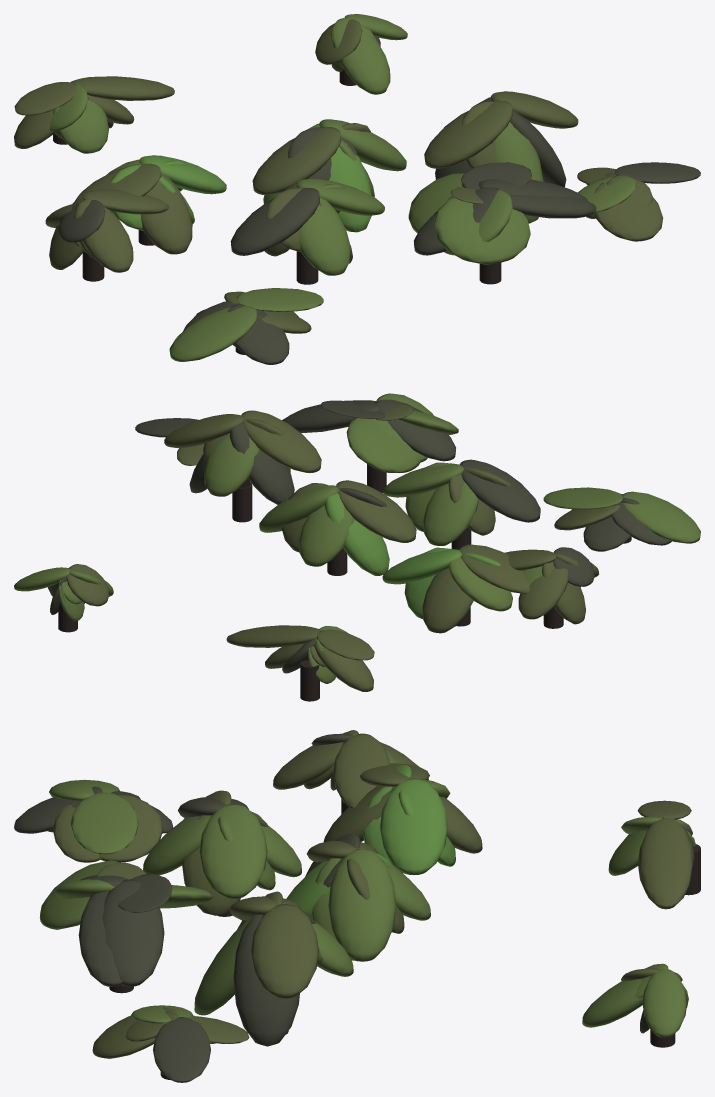
The model's file is CMU3DRMCBushc2.glb.
The picture shows the model from 3 angles, top to bottom: view 1: azimuth 30°, elevation 25°; view 2: azimuth 150°, elevation 25°; view 3: azimuth 270°, elevation 25°; orthographic projection. The views are drawn at different scales.
Parts seen in each view (by area): view 1: tuft 7 source leaf 4, tuft 5 source leaf 0, tuft 6 source leaf 0, tuft 4 source leaf 0, tuft 9 source leaf 0, tuft 6 source leaf 4, tuft 3 source leaf 4, tuft 8 source leaf 4, tuft 1 source leaf 4, tuft 2 source leaf 4, tuft 0 source leaf 3, tuft 4 source leaf 3 (+34 smaller); view 2: tuft 5 source leaf 0, tuft 6 source leaf 0, tuft 4 source leaf 0, tuft 7 source leaf 5, tuft 6 source leaf 5, tuft 9 source leaf 0, tuft 4 source leaf 5, tuft 5 source leaf 5, tuft 3 source leaf 5, tuft 4 source leaf 1, tuft 5 source leaf 1, tuft 7 source leaf 0 (+30 smaller); view 3: tuft 4 source leaf 3, tuft 5 source leaf 3, tuft 3 source leaf 3, tuft 6 source leaf 3, tuft 7 source leaf 3, tuft 5 source leaf 2, tuft 0 source leaf 3, tuft 9 source leaf 3, tuft 8 source leaf 3, tuft 2 source leaf 3, tuft 1 source leaf 3, tuft 7 source leaf 2 (+35 smaller).
Part boxes in pixels (x1,y1,x2,y2): tuft 7 source leaf 4: [434, 197, 530, 264]; tuft 5 source leaf 0: [424, 100, 512, 168]; tuft 6 source leaf 0: [230, 187, 319, 255]; tuft 4 source leaf 0: [252, 126, 341, 194]; tuft 9 source leaf 0: [169, 306, 257, 361]; tuft 6 source leaf 4: [299, 197, 350, 275]; tuft 3 source leaf 4: [140, 173, 192, 254]; tuft 8 source leaf 4: [594, 183, 663, 241]; tuft 1 source leaf 4: [340, 32, 390, 94]; tuft 2 source leaf 4: [79, 207, 133, 272]; tuft 0 source leaf 3: [70, 76, 174, 100]; tuft 4 source leaf 3: [319, 119, 406, 171]; tuft 5 source leaf 0: [241, 410, 321, 473]; tuft 6 source leaf 0: [459, 459, 540, 522]; tuft 4 source leaf 0: [336, 480, 416, 542]; tuft 7 source leaf 5: [346, 417, 420, 472]; tuft 6 source leaf 5: [423, 481, 478, 545]; tuft 9 source leaf 0: [622, 491, 700, 543]; tuft 4 source leaf 5: [299, 505, 354, 566]; tuft 5 source leaf 5: [204, 434, 259, 496]; tuft 3 source leaf 5: [422, 568, 473, 633]; tuft 4 source leaf 1: [324, 493, 389, 575]; tuft 5 source leaf 1: [229, 423, 294, 504]; tuft 7 source leaf 0: [375, 399, 455, 461]; tuft 4 source leaf 3: [328, 849, 396, 961]; tuft 5 source leaf 3: [251, 904, 318, 998]; tuft 3 source leaf 3: [380, 778, 447, 874]; tuft 6 source leaf 3: [199, 804, 267, 898]; tuft 7 source leaf 3: [102, 879, 164, 986]; tuft 5 source leaf 2: [233, 914, 299, 1046]; tuft 0 source leaf 3: [639, 818, 692, 909]; tuft 9 source leaf 3: [70, 792, 138, 854]; tuft 8 source leaf 3: [153, 1017, 210, 1082]; tuft 2 source leaf 3: [333, 733, 390, 808]; tuft 1 source leaf 3: [642, 969, 686, 1037]; tuft 7 source leaf 2: [78, 891, 121, 986].
Size of the model in its own units: 0.9055 by 0.1699 by 0.833.
